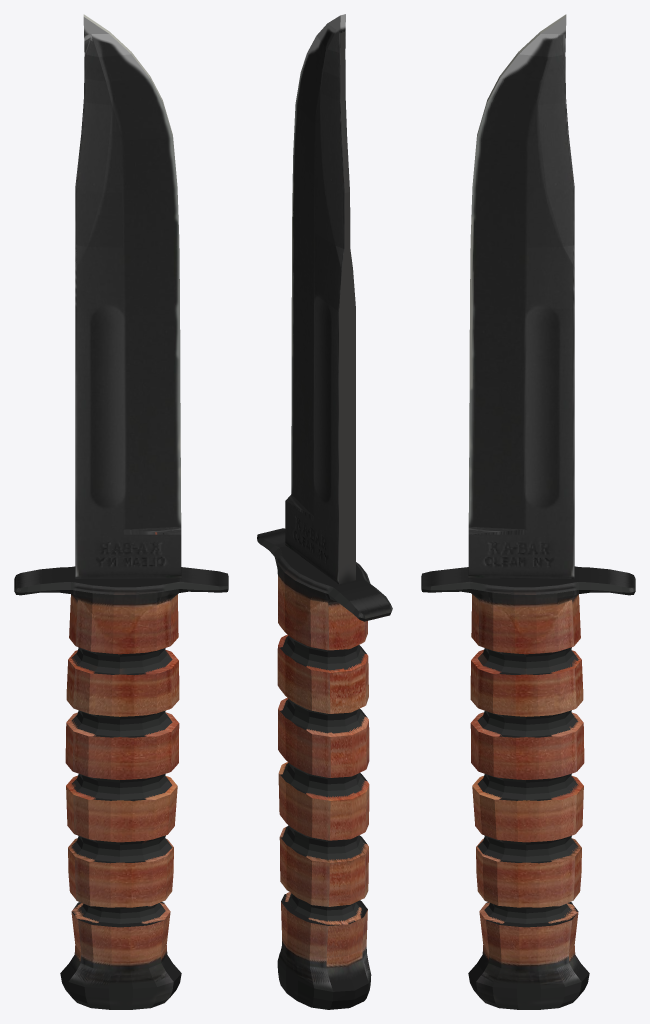
Rendered from ka-bar_knife_model.fbx.
3 views of the same model, side by side, from view 1: azimuth 90°, elevation 25°; view 2: azimuth 210°, elevation 25°; view 3: azimuth 270°, elevation 25° (orthographic).
Parts seen in each view (by area): view 1: blade; view 2: blade; view 3: blade.
Boxes of the visible parts, left/top/right/bottom form: blade: left=14, top=14, right=228, bottom=1009; blade: left=257, top=14, right=392, bottom=1009; blade: left=421, top=14, right=635, bottom=1009.
Size of the model in its own units: 0.0172 by 0.2526 by 0.05.
